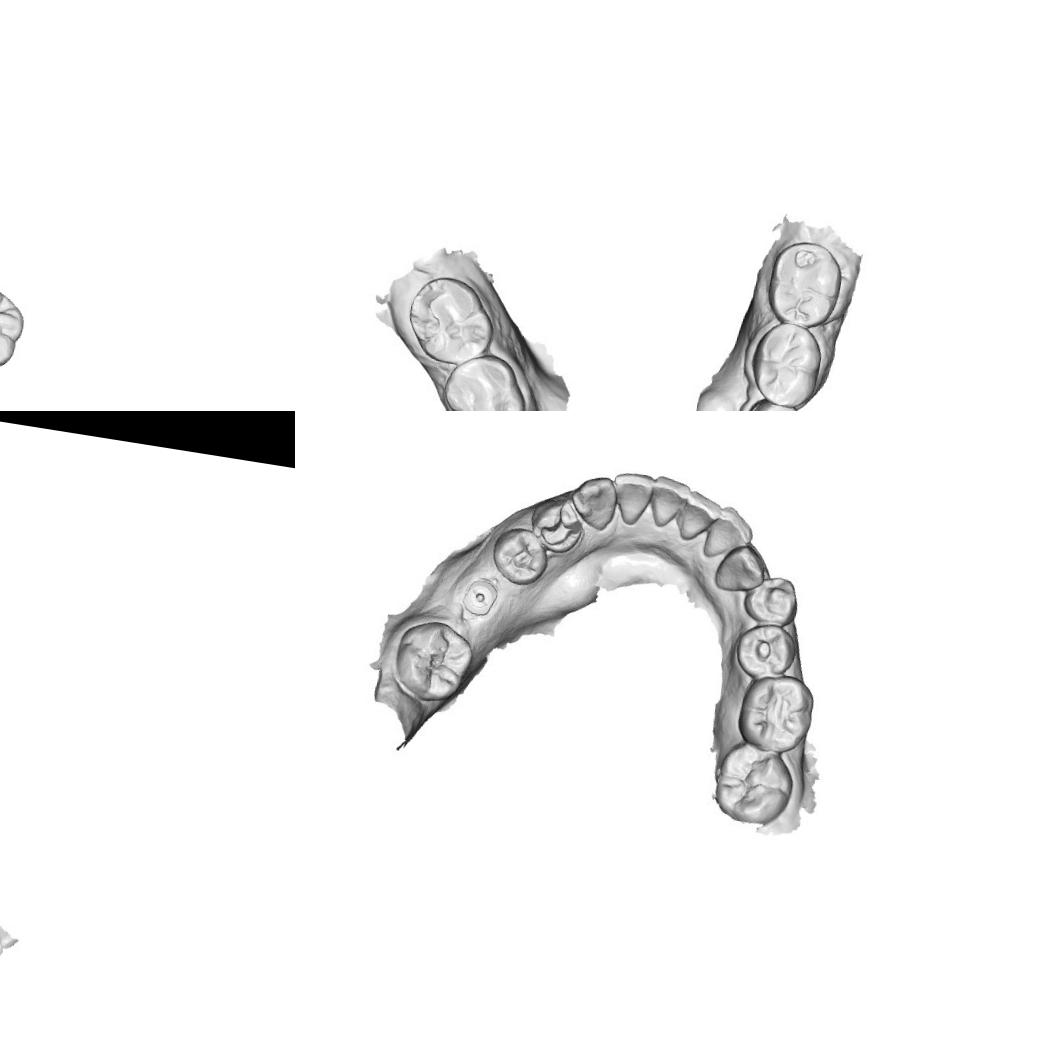canine: (714, 540, 771, 598), (570, 472, 620, 533)
implant_minus: (458, 574, 501, 620)
incisor: (698, 501, 756, 562), (608, 464, 656, 528), (643, 472, 692, 531), (670, 488, 718, 546)
inlay: (536, 497, 587, 550)
molar: (399, 272, 501, 372), (708, 739, 800, 830), (764, 234, 846, 334), (390, 615, 478, 707), (745, 317, 830, 411), (732, 669, 820, 756), (434, 347, 533, 411), (0, 276, 31, 371)
premolar: (486, 524, 552, 590), (730, 619, 798, 683), (740, 570, 802, 631), (739, 394, 809, 411)
